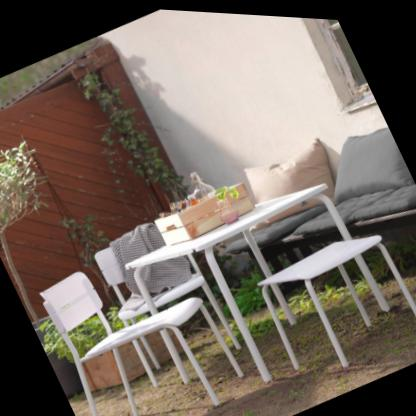Chair: (25, 216, 255, 416)
